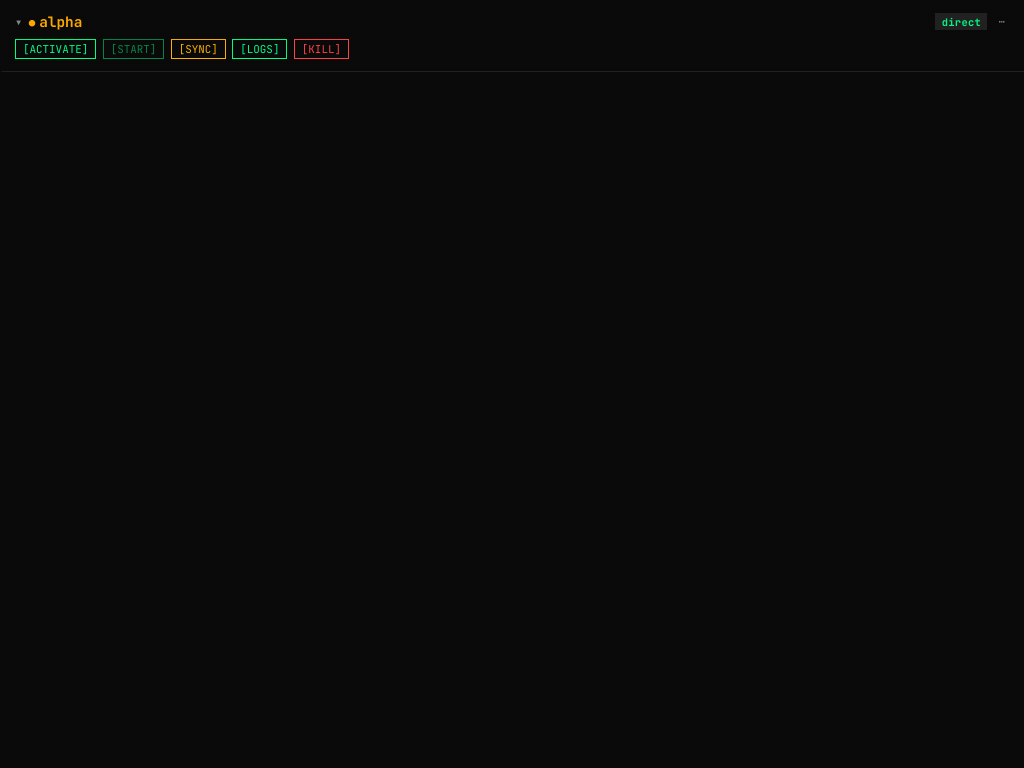
Scenario: FeatureCard — config menu › uses feature name as displayName when title is absent
Click the button named "Open alpha configuration" at (1002,22), box [991,14,1012,29]
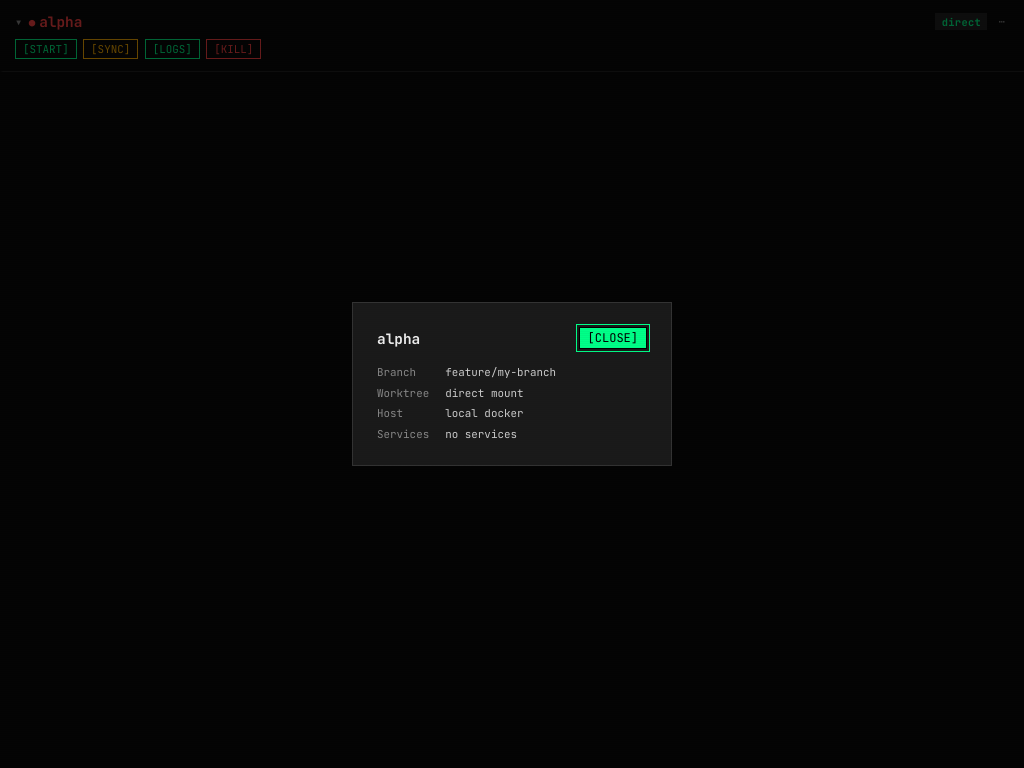
Check: the heading "alpha" is shown, box [377,329,420,348]
